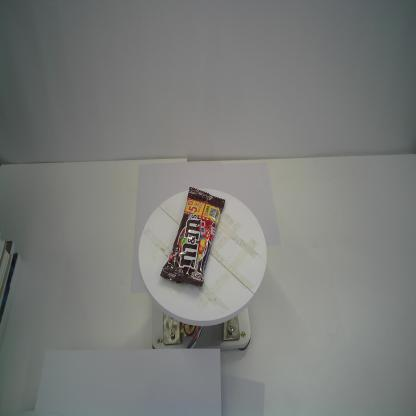Chocolate: (159, 184, 227, 289)
